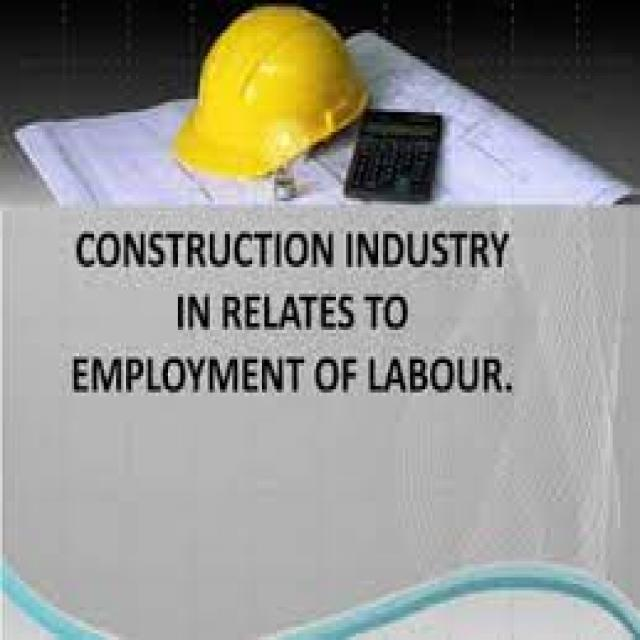Safety-Helmet: (166, 0, 380, 188)
